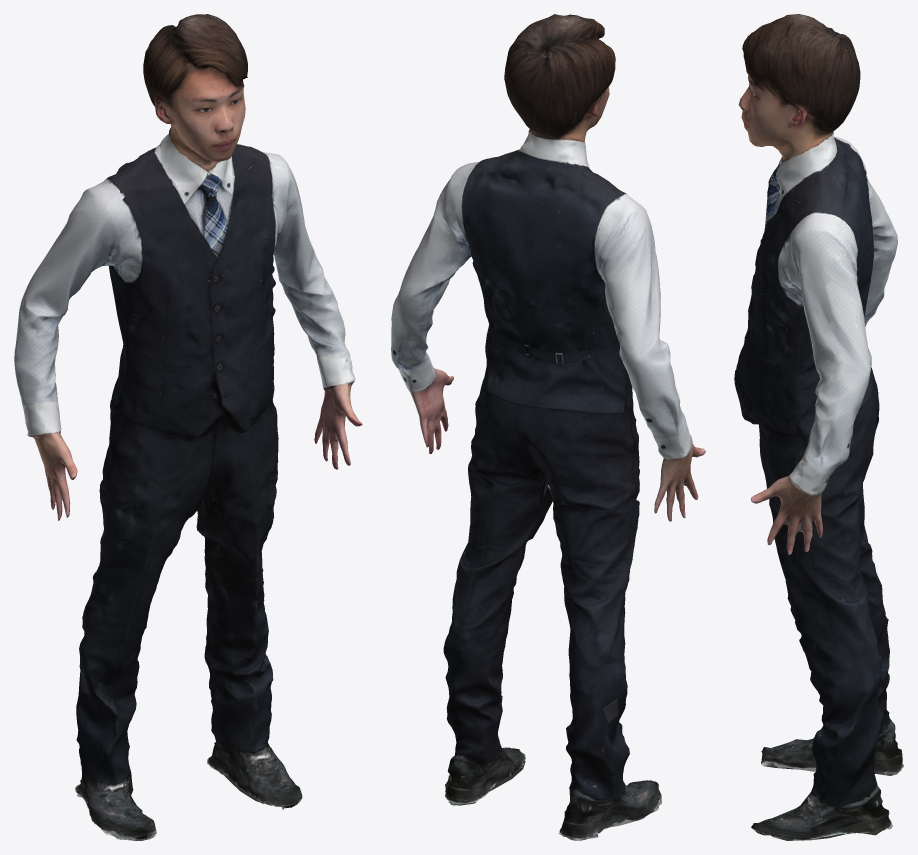
File: fal.obj
3 renders of one model, left to right at view 1: azimuth 30°, elevation 25°; view 2: azimuth 150°, elevation 25°; view 3: azimuth 270°, elevation 25°, orthographic. The views are drawn at different scales.
Size of the model in its own units: 7.34 by 17.94 by 3.53.
1 material, 1 textured.
